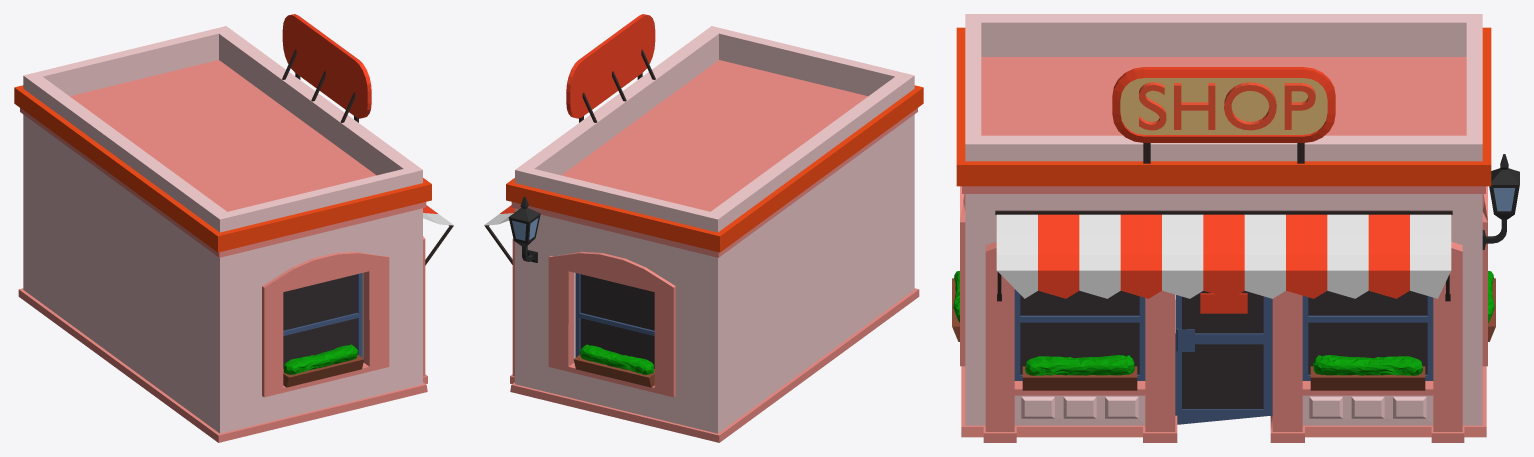
Rendered from location-CkegeGVK.glb.
3 renders of one model, left to right at view 1: azimuth 30°, elevation 25°; view 2: azimuth 150°, elevation 25°; view 3: azimuth 270°, elevation 25°, orthographic. The views are drawn at different scales.
Visible parts, largest first — view 1: ShopBuilding_ShopBuilding_Cube.027_Cube.001; view 2: ShopBuilding_ShopBuilding_Cube.027_Cube.001; view 3: ShopBuilding_ShopBuilding_Cube.027_Cube.001.
Part boxes in pixels (bbox=[...]): ShopBuilding_ShopBuilding_Cube.027_Cube.001: bbox=[14, 14, 453, 442]; ShopBuilding_ShopBuilding_Cube.027_Cube.001: bbox=[484, 14, 923, 442]; ShopBuilding_ShopBuilding_Cube.027_Cube.001: bbox=[952, 14, 1519, 442].
Bounding box in the file's own units: 2.48 × 2.64 × 3.69.
Materials: 1 (1 with a texture image).
